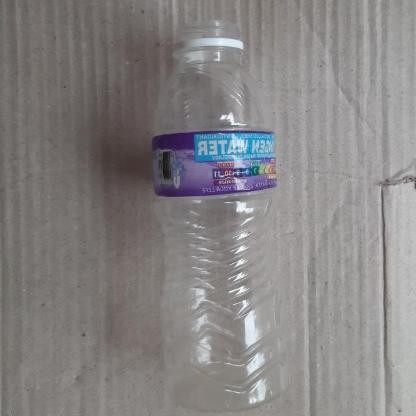Plastic Bottle: (150, 21, 292, 416)
